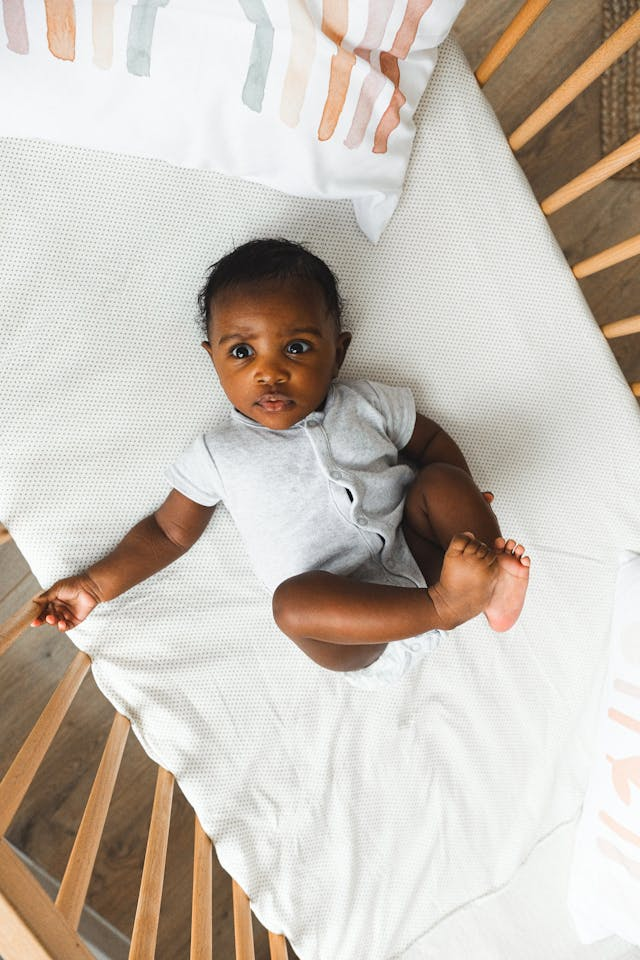baby: (32, 239, 529, 670)
crib: (0, 710, 129, 959)
